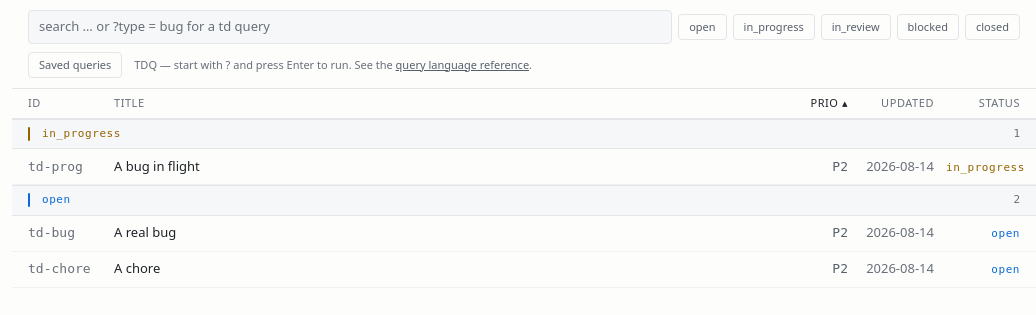
Test case: IssueList › TDQ mode › counts the rows it is sitting on, not the ones a chip just removed
Expected: the text "A real bug" is shown, [114,223,176,241]
Type "?type = bug" into the search field labelled "search" at [350, 27], box [28,10,672,44]
Then press Enter
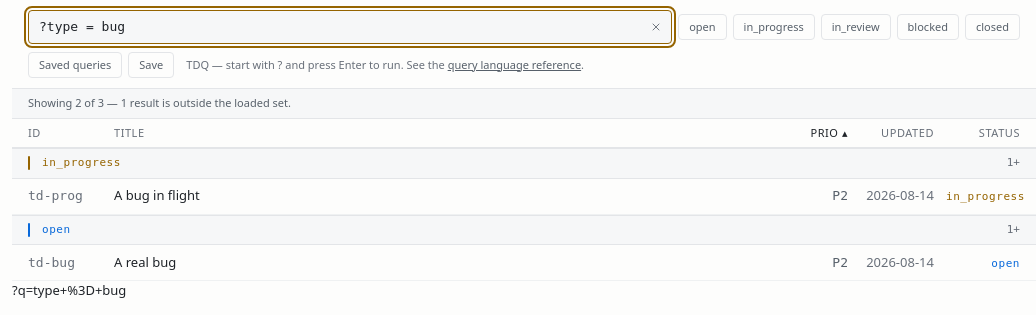
Result: the text "Showing 2 of 3 — 1 result is outside the loaded set." is shown at [12,89,1035,118]
Click the checkbox labelled "in_progress" at [774, 27], box [733,14,815,40]
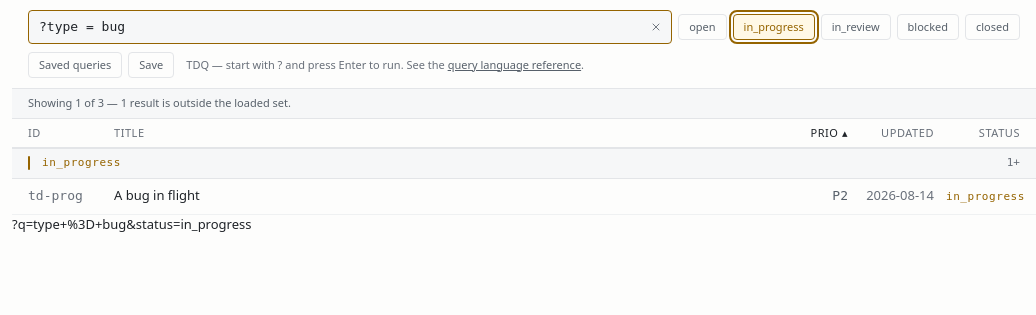
Result: the text "Showing 1 of 3 — 1 result is outside the loaded set." is shown at [12,89,1035,118]
Result: the number of list items is 1 at [12,178,1035,214]
